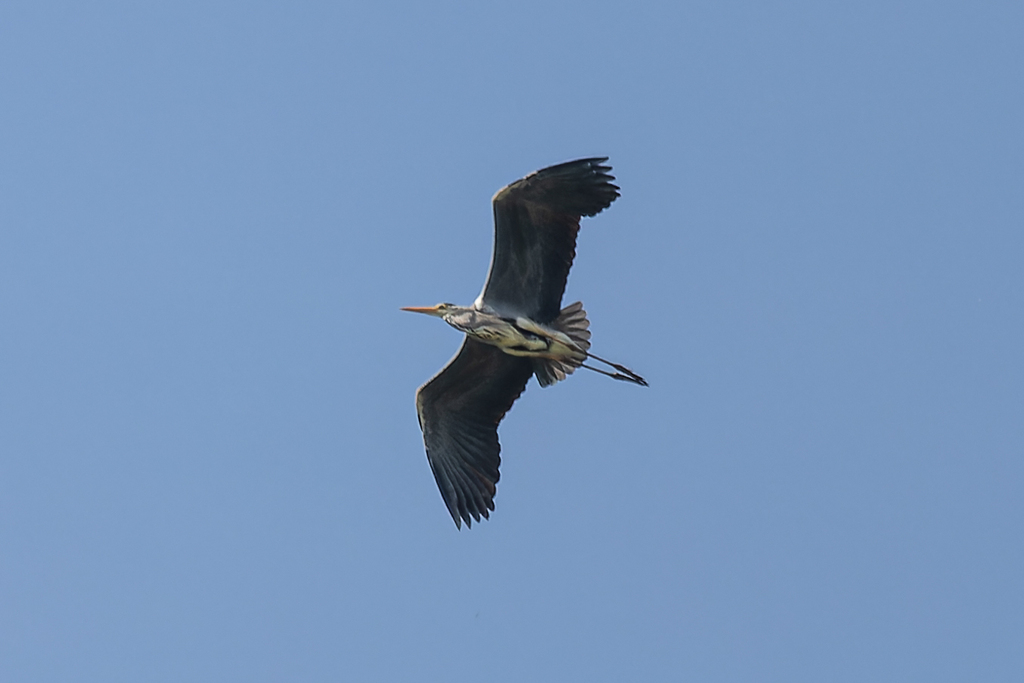heron: (397, 154, 653, 536)
